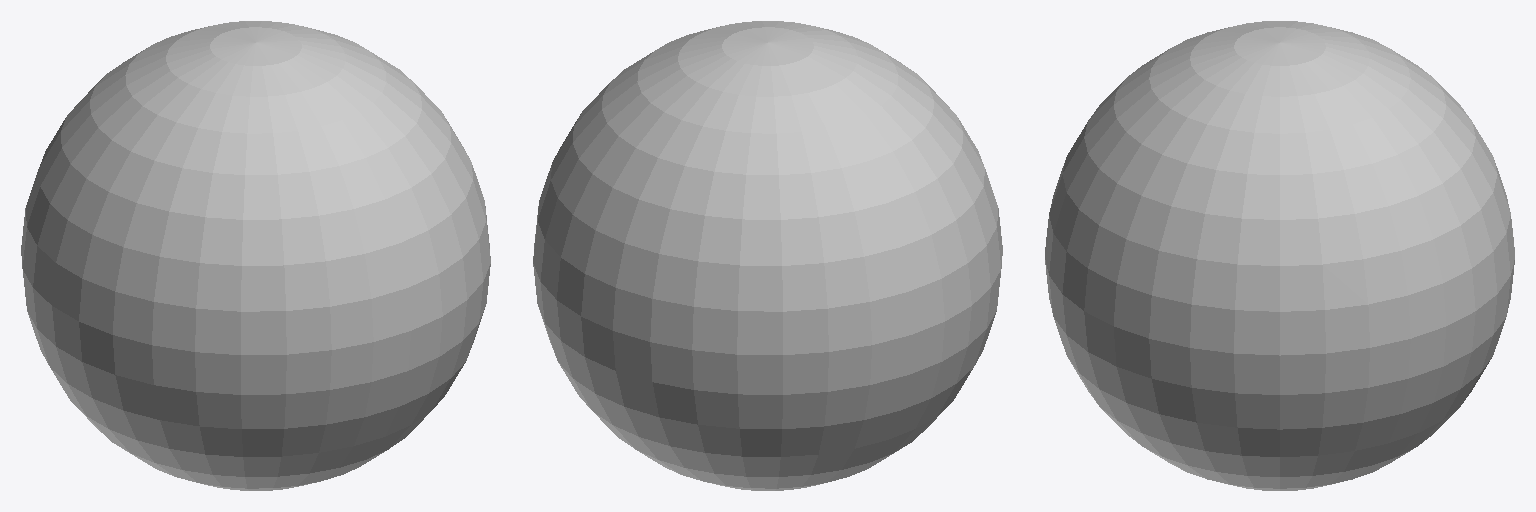
Rendered from bean.obj.
3 views of the same model, side by side, from view 1: azimuth 30°, elevation 25°; view 2: azimuth 150°, elevation 25°; view 3: azimuth 270°, elevation 25° (orthographic).
Parts seen in each view (by area): view 1: 구체.003; view 2: 구체.003; view 3: 구체.003.
Part boxes in pixels (left/top/right/bottom): 구체.003: left=21, top=21, right=490, bottom=490; 구체.003: left=533, top=21, right=1002, bottom=490; 구체.003: left=1045, top=21, right=1514, bottom=490.
Size of the model in its own units: 0.1766 by 0.1766 by 0.1766.